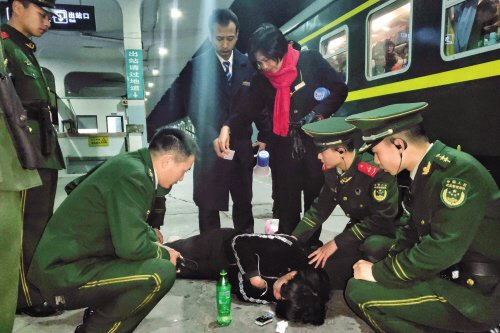fall: (144, 216, 347, 323)
